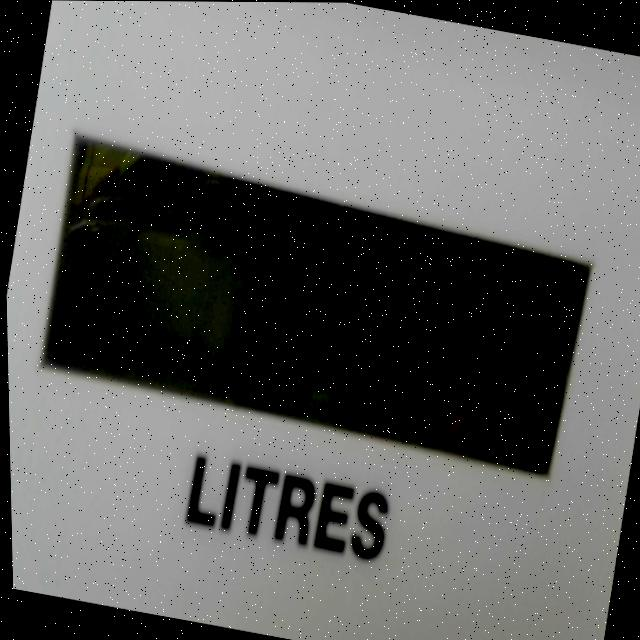.: (348, 375, 389, 440)
0: (371, 254, 488, 449)
1: (472, 270, 554, 467)
4: (298, 216, 401, 418)
8: (205, 200, 321, 424)
